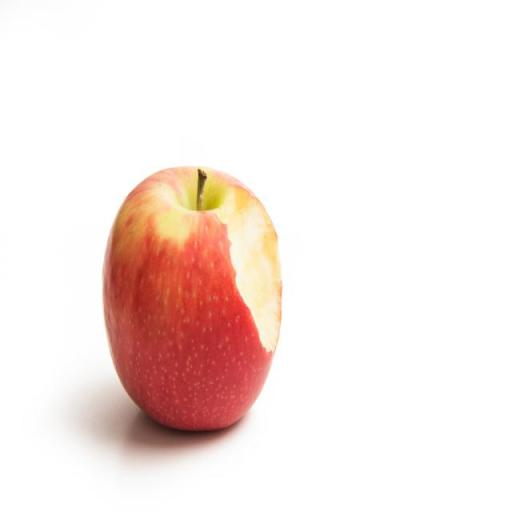fruit: (104, 168, 281, 430)
